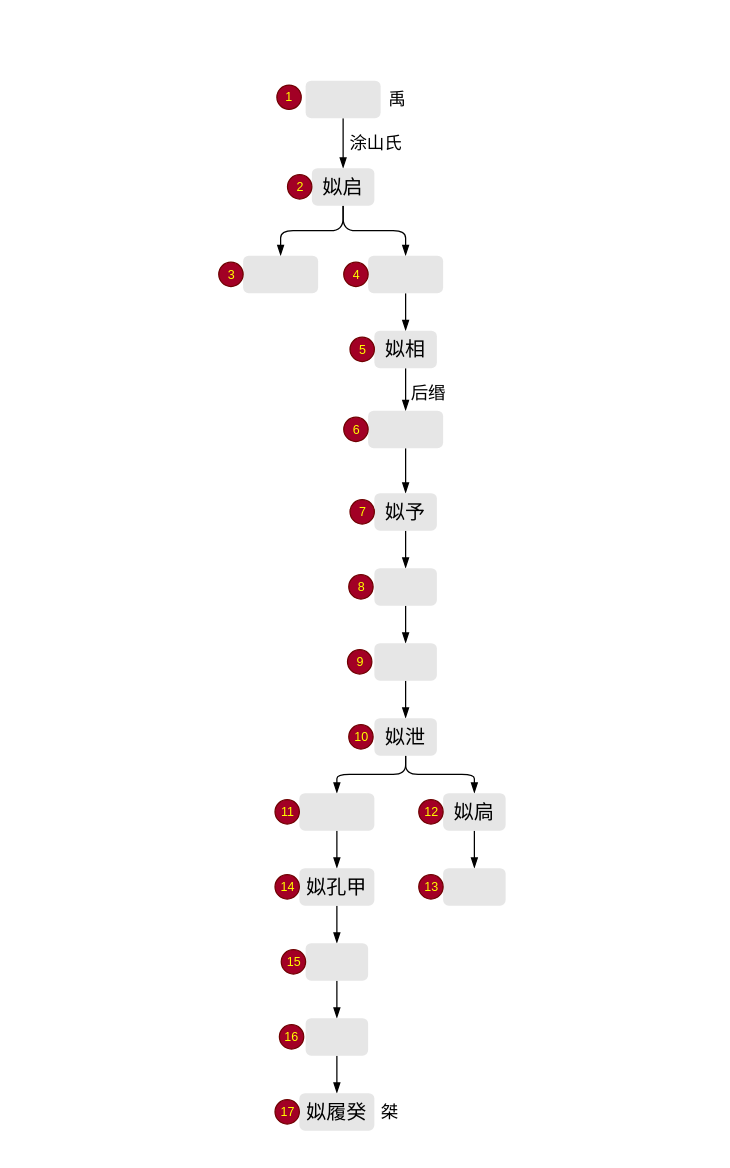
This 730x1168 diagram has some shape labels left out. The box of each missing label's shape, as (x1, y1, x2, y2) in pixels:
姒不降: (299, 792, 374, 830)
姒中康: (368, 255, 442, 292)
姒厪: (442, 868, 505, 905)
姒发: (305, 1018, 368, 1055)
姒太康: (242, 255, 318, 292)
姒少康: (368, 410, 442, 448)
姒文命: (305, 80, 380, 118)
姒槐: (374, 568, 436, 605)
姒皋: (305, 942, 368, 980)
姒芒: (374, 642, 436, 680)
